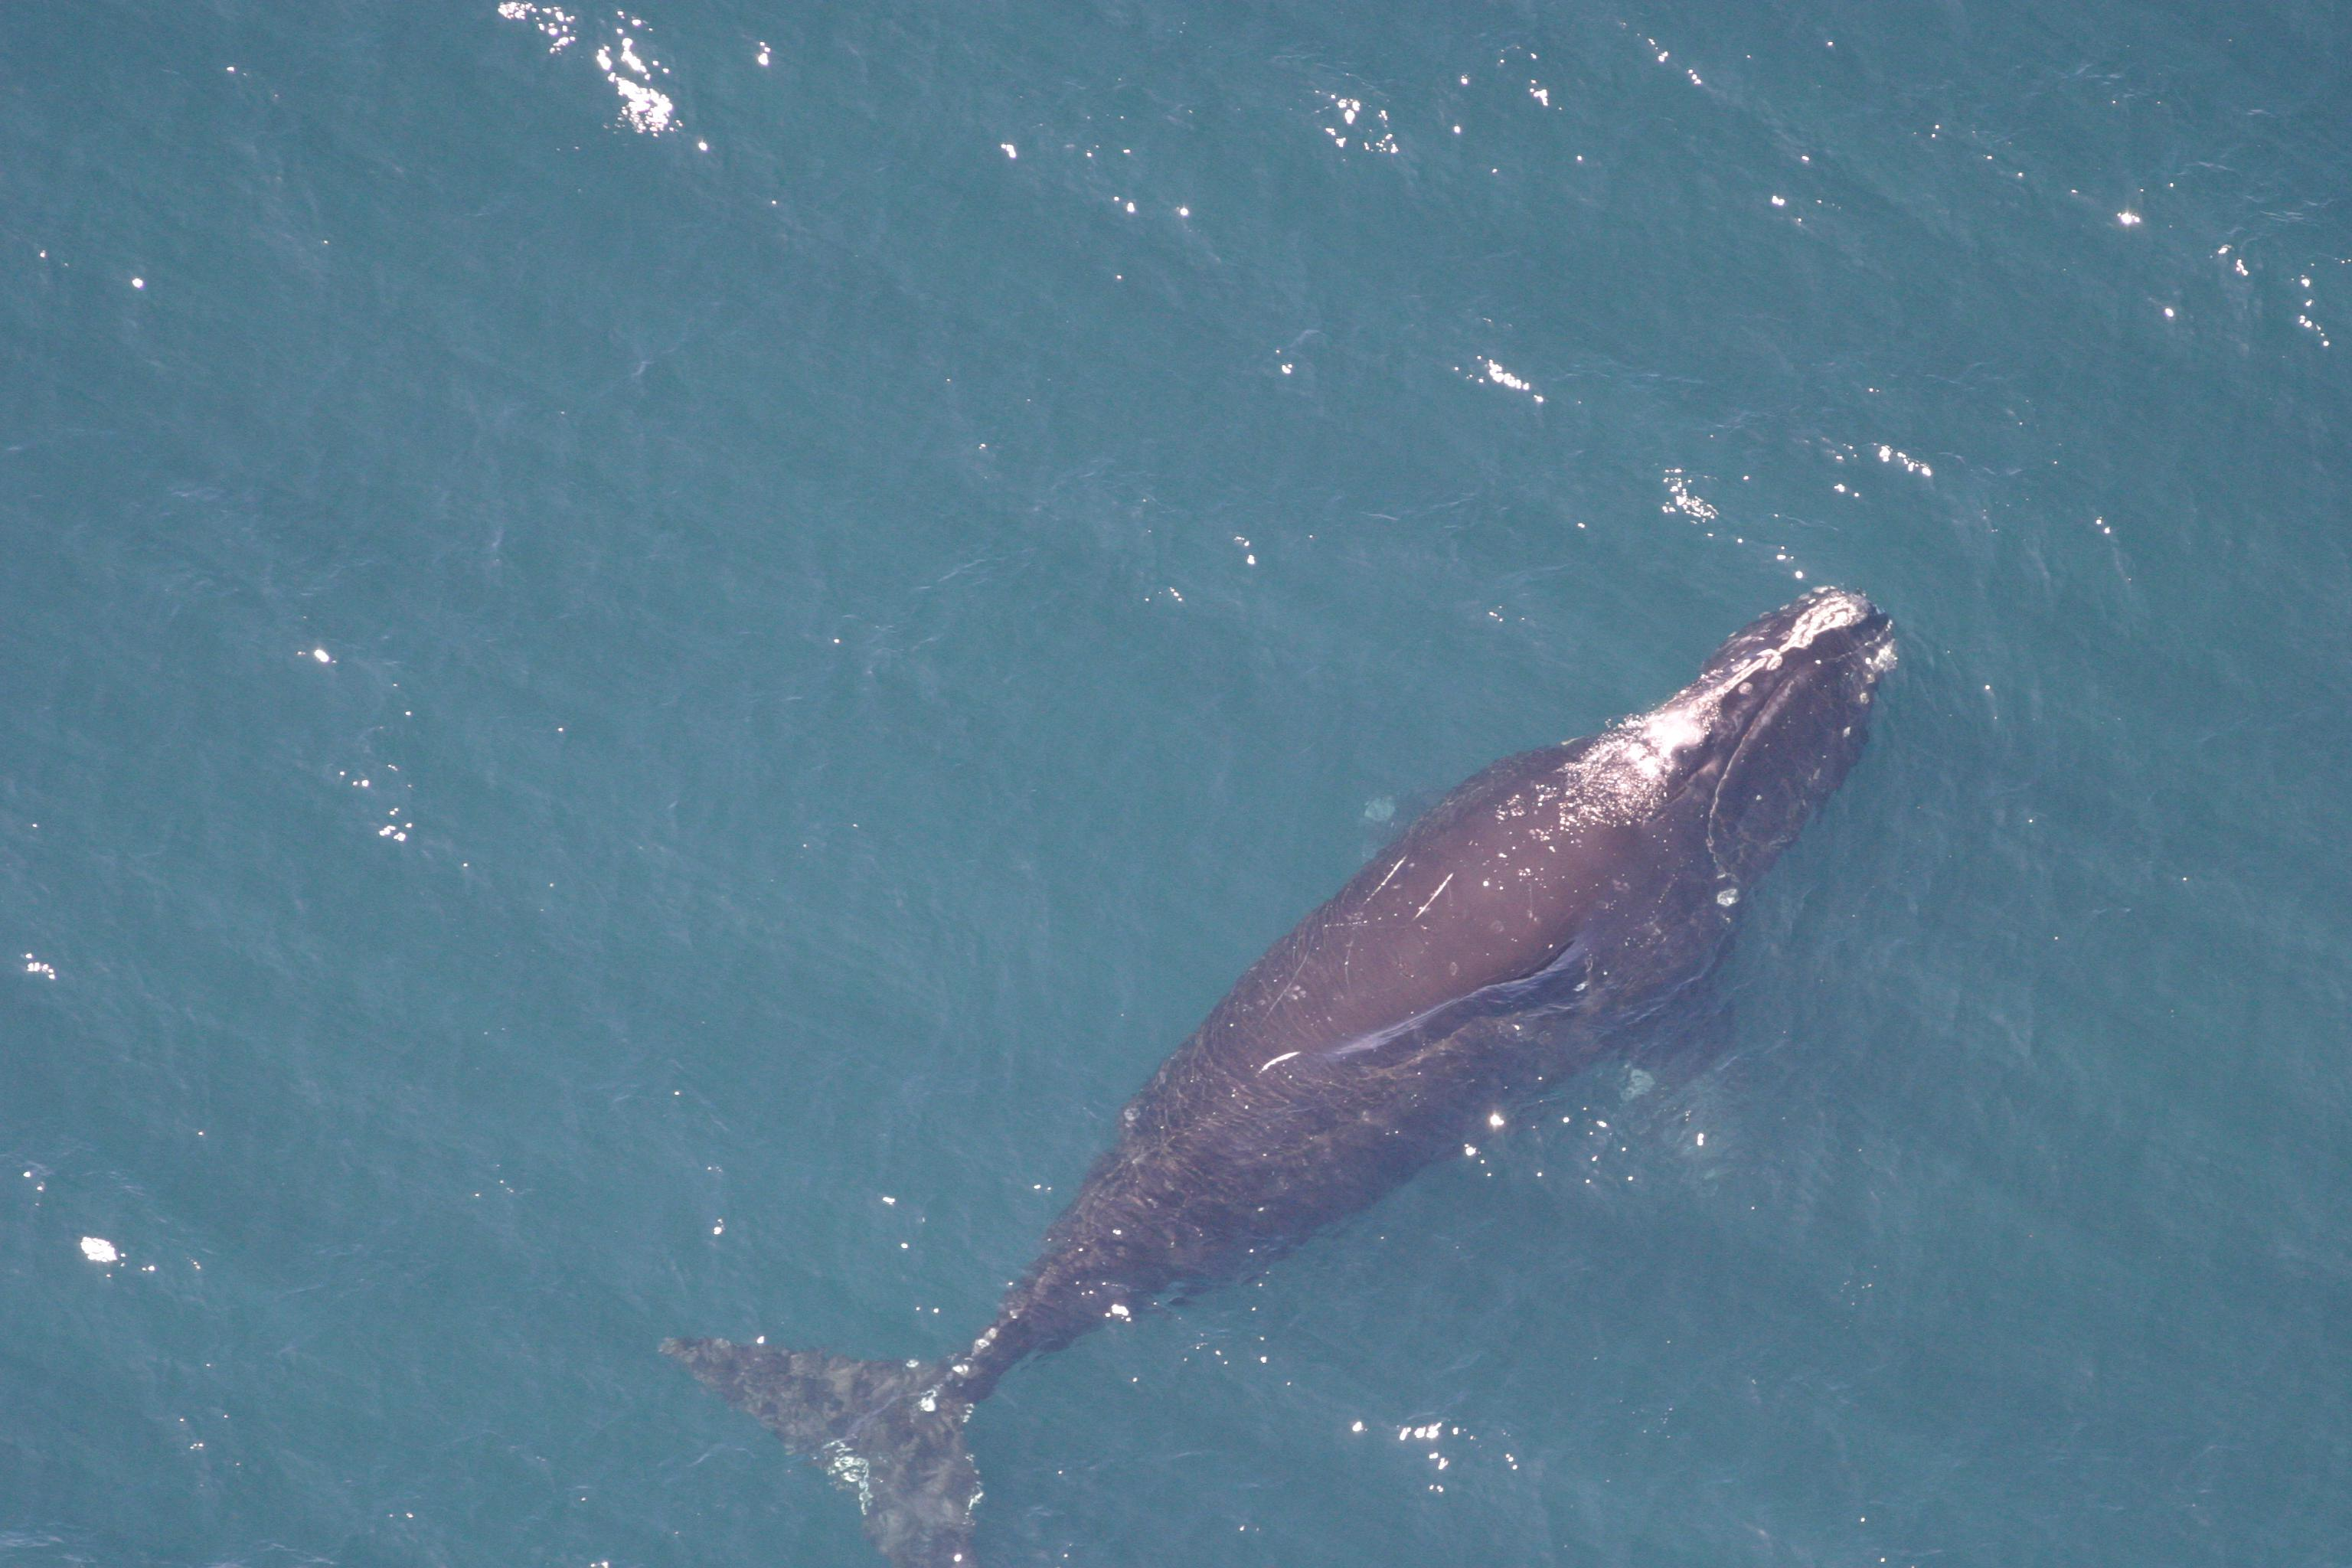whale: (656, 581, 1892, 1561)
